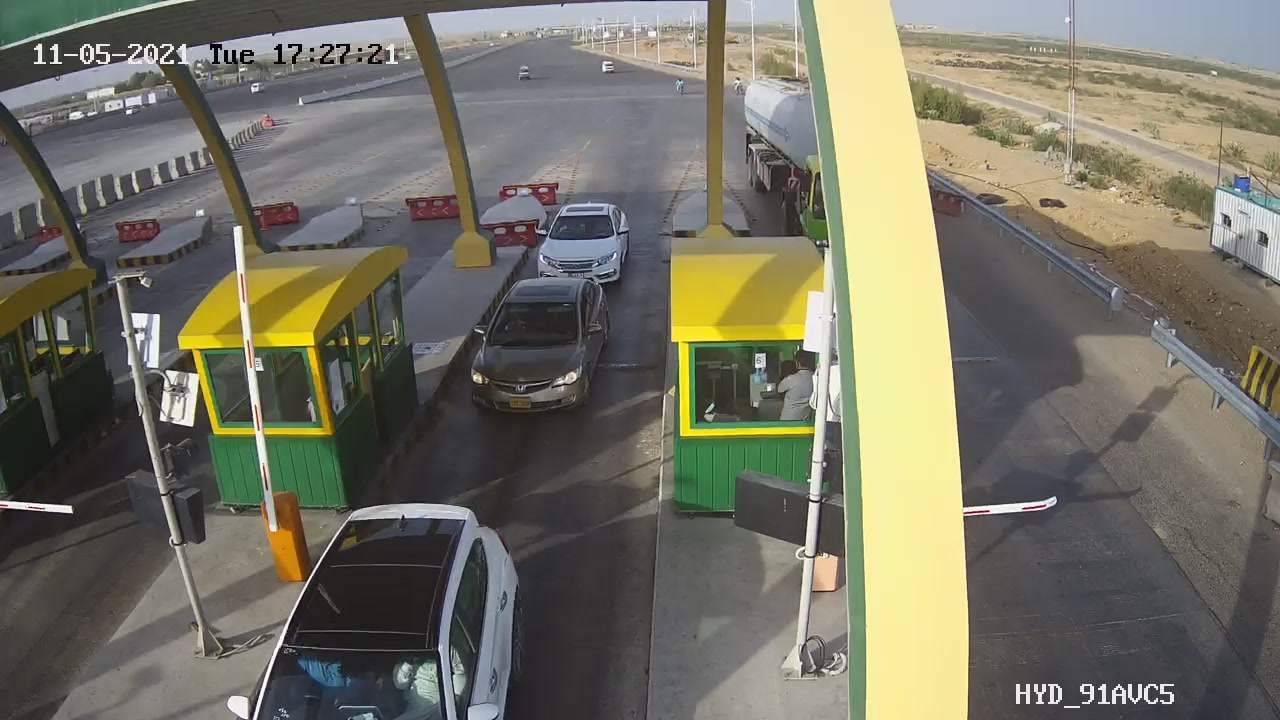F1: (451, 265, 630, 429), (524, 191, 643, 296)
